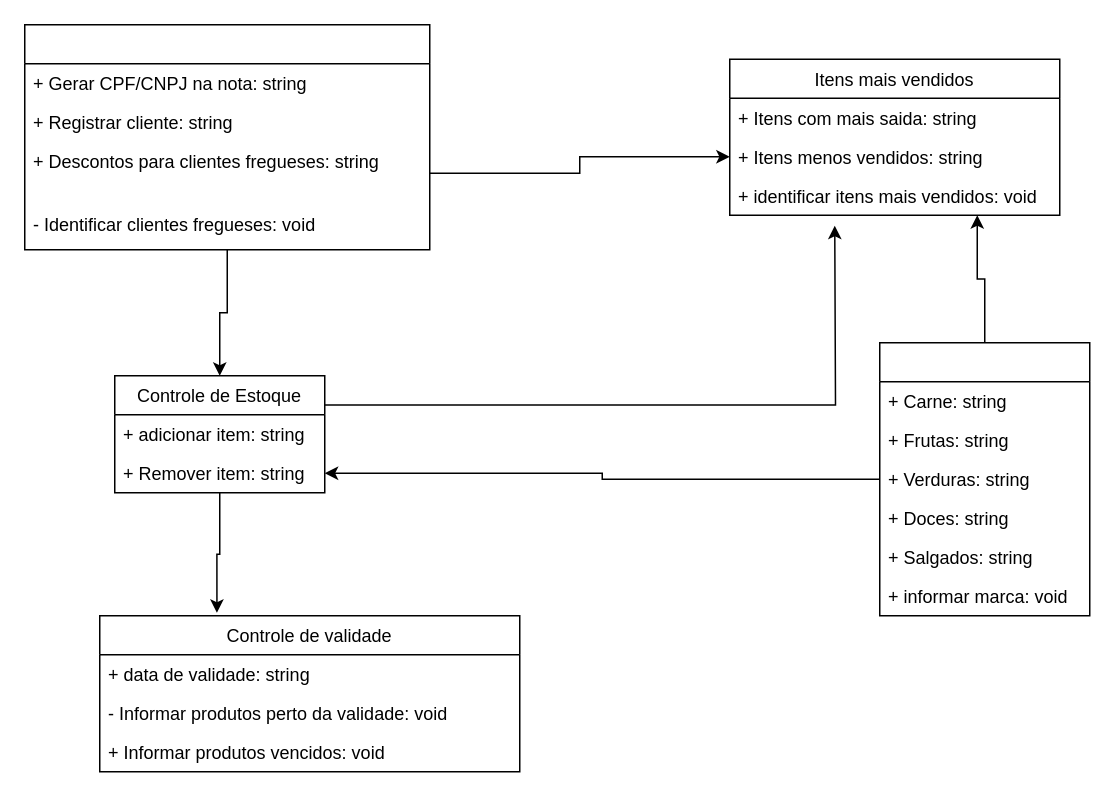
Some shapes in this 1115 by 797 pixel diagram are drawn without their labels. Each missing label, with the box of its shape:
Registro de Clientes: (23, 23, 430, 250)
Tipos de Alimentos: (878, 341, 1090, 616)
